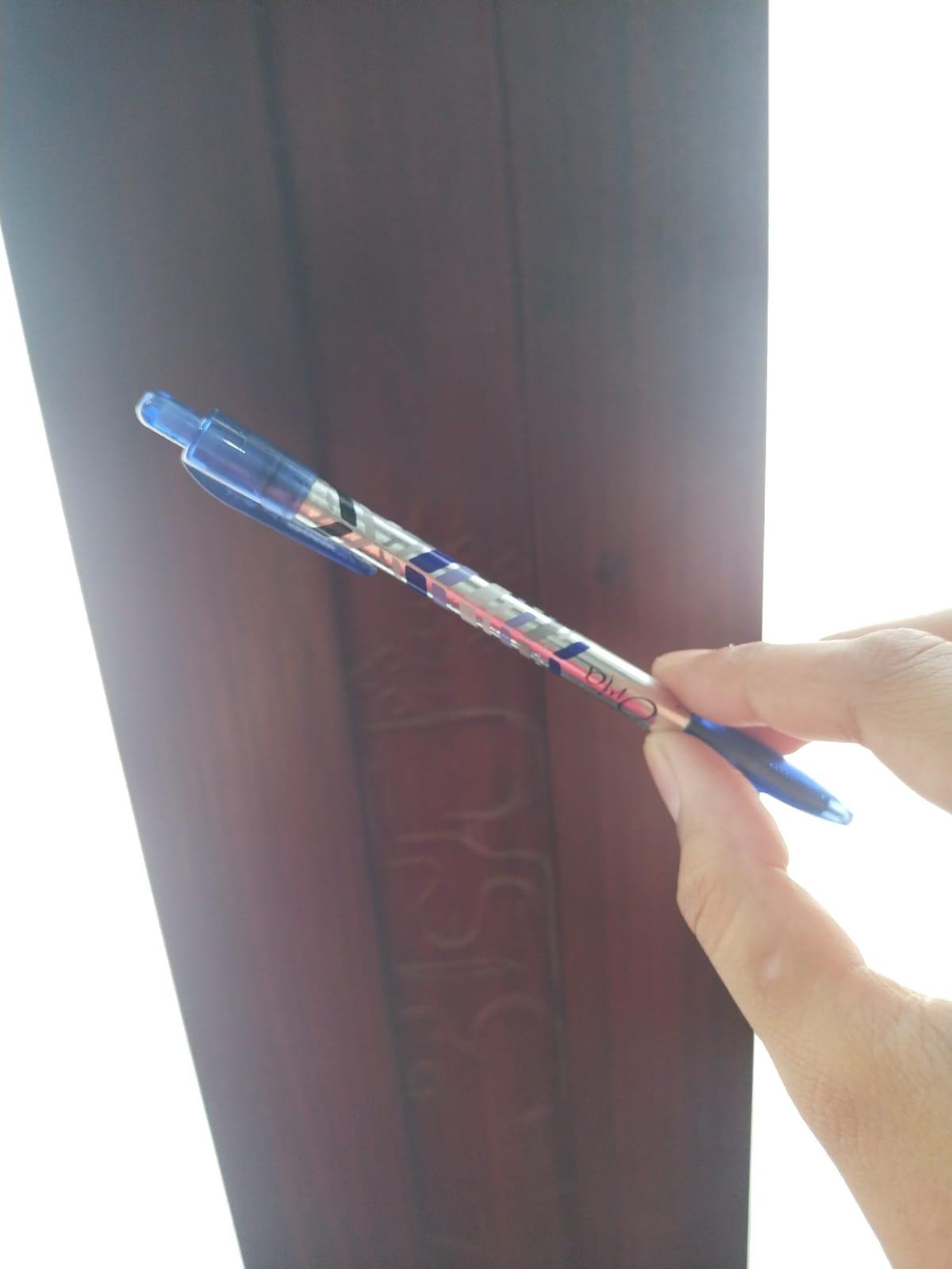ballpoint: (136, 393, 850, 821)
